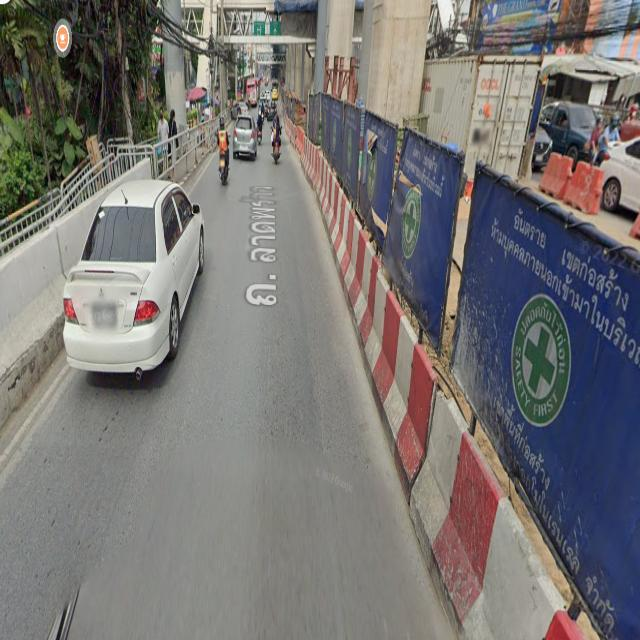fallen_object: (385, 356, 587, 640), (325, 219, 435, 476), (312, 160, 364, 304), (509, 150, 610, 218), (283, 107, 326, 192)
